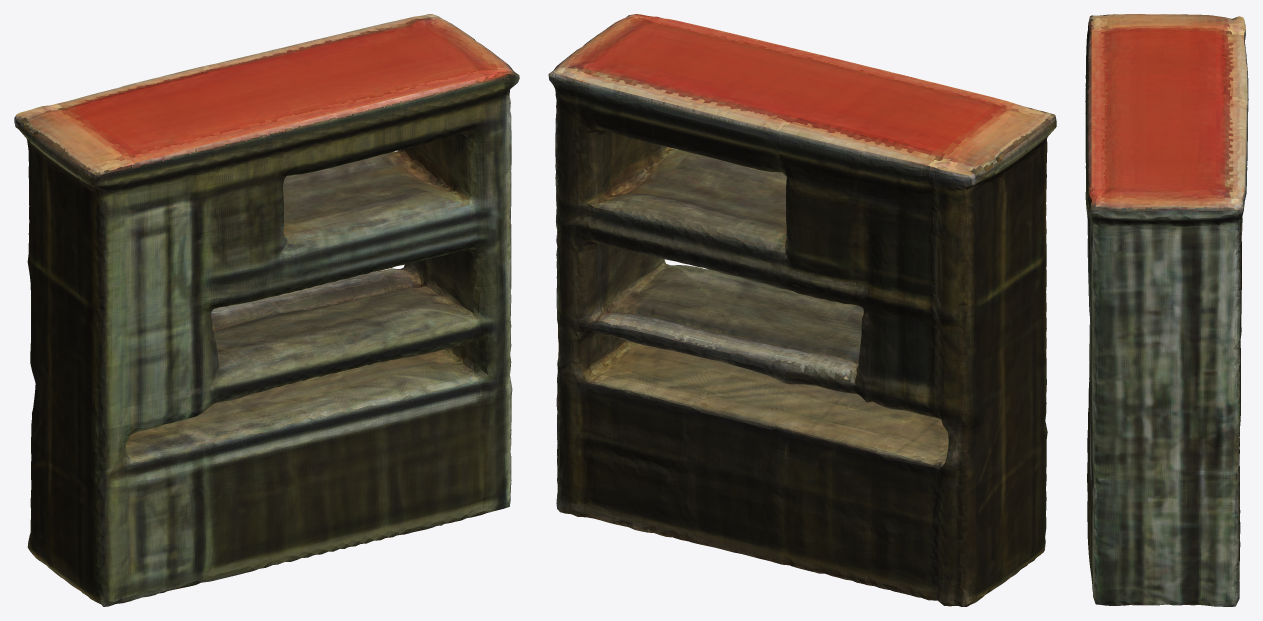
The model's file is cabinets and storage spaces.glb.
3 renders of one model, left to right at view 1: azimuth 30°, elevation 25°; view 2: azimuth 150°, elevation 25°; view 3: azimuth 270°, elevation 25°, orthographic. The views are drawn at different scales.
Size of the model in its own units: 0.9813 by 0.9802 by 0.3461.
1 material, 1 textured.
